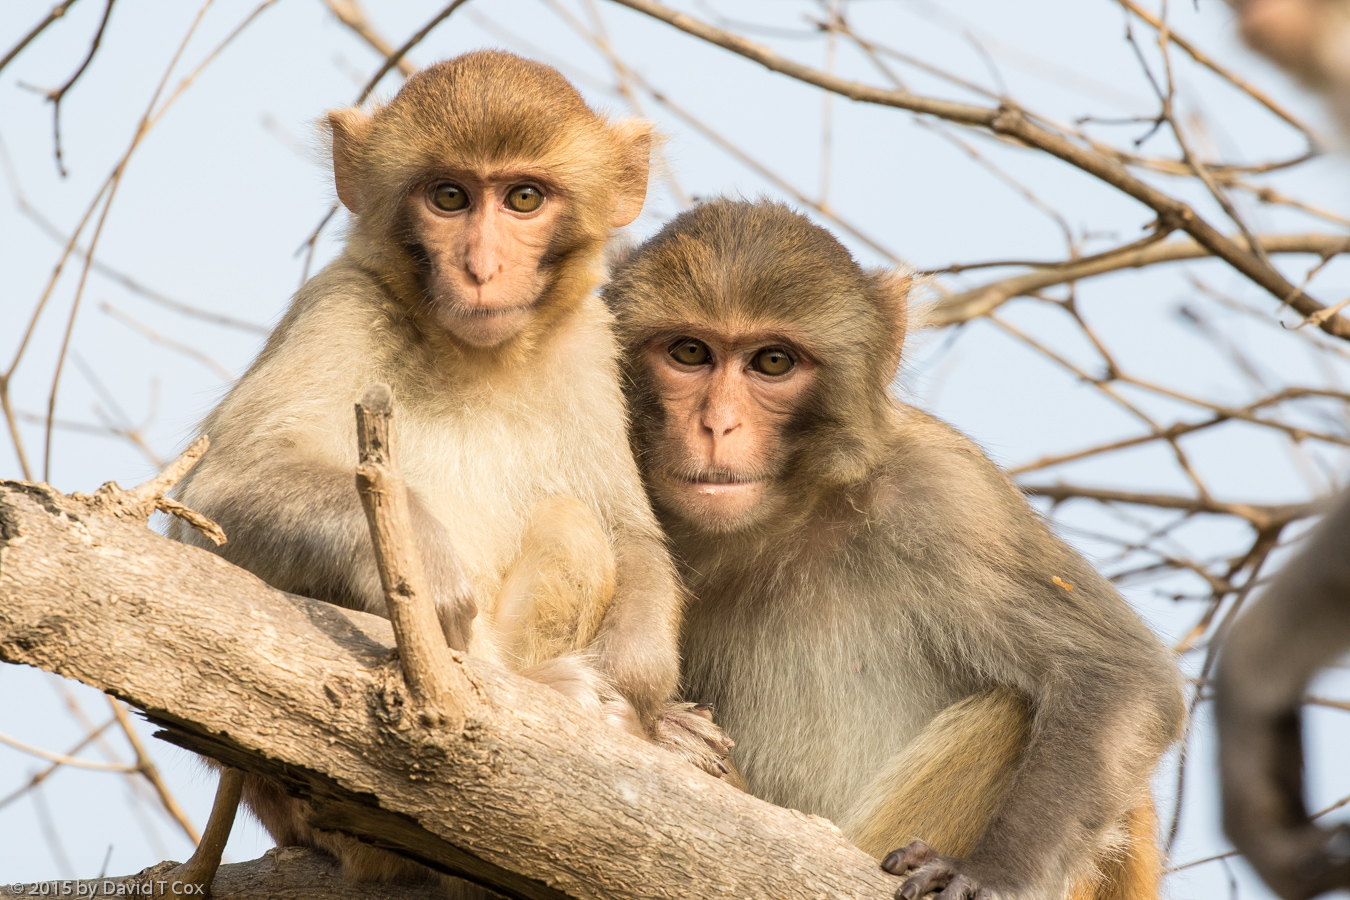monkey: (605, 192, 1190, 900), (177, 47, 701, 741)
